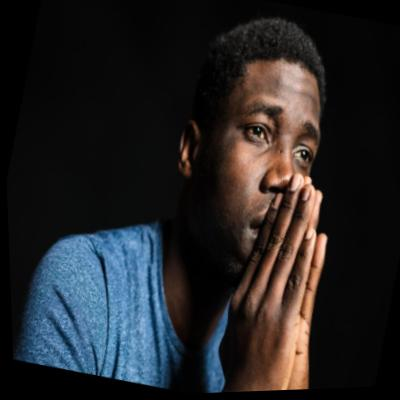sad: (187, 48, 339, 296)
